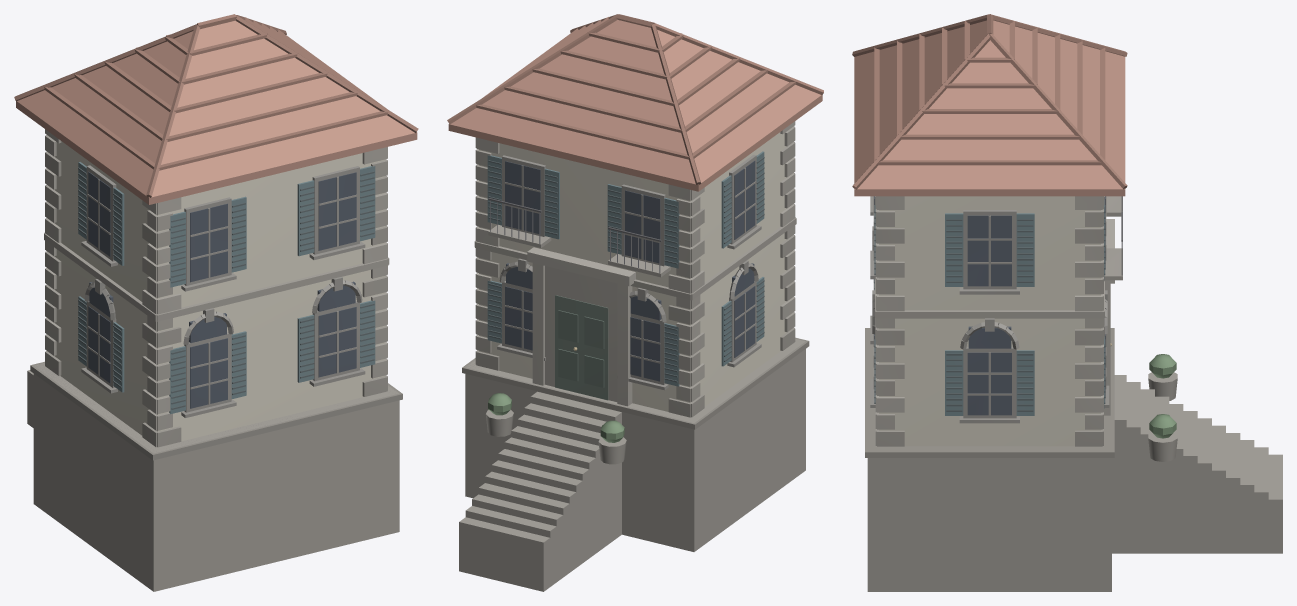
File: house_0_4.gltf
The picture shows the model from 3 angles, left to right: view 1: azimuth 30°, elevation 25°; view 2: azimuth 150°, elevation 25°; view 3: azimuth 270°, elevation 25°; orthographic projection. The views are drawn at different scales.
Parts seen in each view (by area): view 1: Body; view 2: Body; view 3: Body.
Part boxes in pixels (box(x1,y1,x2,y2)): Body: box(14, 14, 418, 591); Body: box(447, 14, 823, 591); Body: box(852, 14, 1282, 591).
Size of the model in its own units: 7.21 by 12.62 by 9.7.
